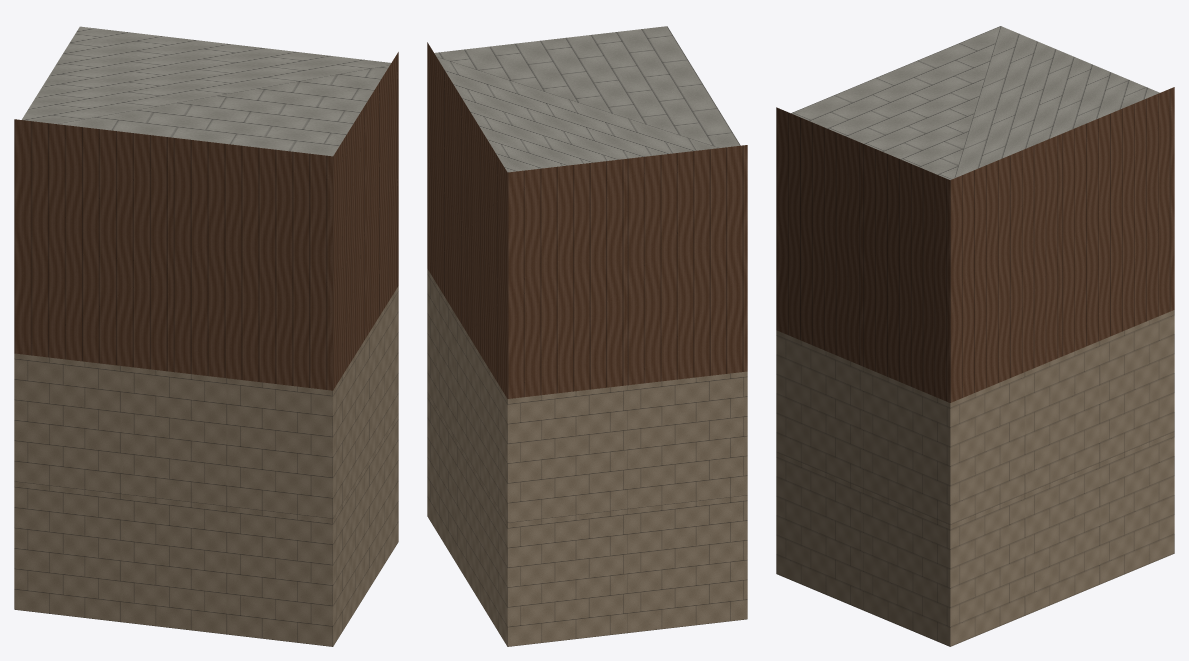
File: bld_c43_32_264.gltf
3 views of the same model, side by side, from view 1: azimuth 30°, elevation 25°; view 2: azimuth 150°, elevation 25°; view 3: azimuth 270°, elevation 25° (orthographic). The views are drawn at different scales.
Visible parts, largest first — view 1: bld_c43_32_264; view 2: bld_c43_32_264; view 3: bld_c43_32_264.
Part boxes in pixels (x1,y1,x2,y2): bld_c43_32_264: (14,26,398,646); bld_c43_32_264: (427,26,747,646); bld_c43_32_264: (776,26,1174,646).
Bounding box in the file's own units: 7.16 × 9.38 × 7.25.
4 materials, 4 textured.
